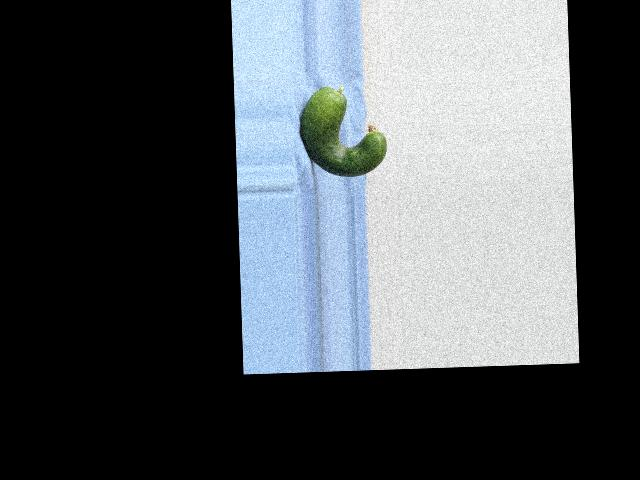cucumber: (298, 84, 387, 178)
